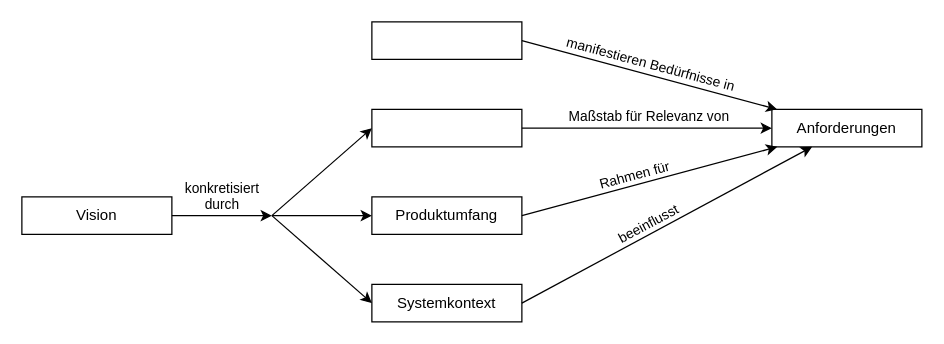
The diagram is 944 pixels wide and 344 high, and some of its shapes have lost their labels. Each missing label, with the centre of its shape:
"Stakeholder" belongs at (446,40).
"Ziele" belongs at (446,127).
